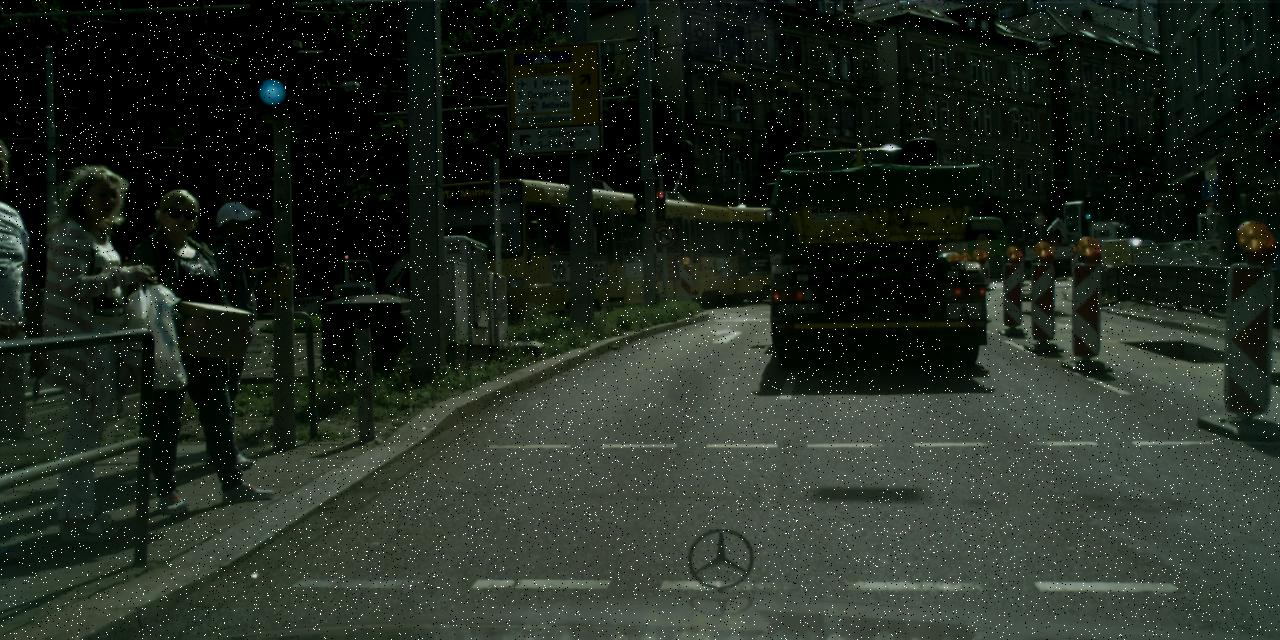ped: (13, 165, 166, 538), (126, 188, 255, 505), (175, 201, 282, 466)
